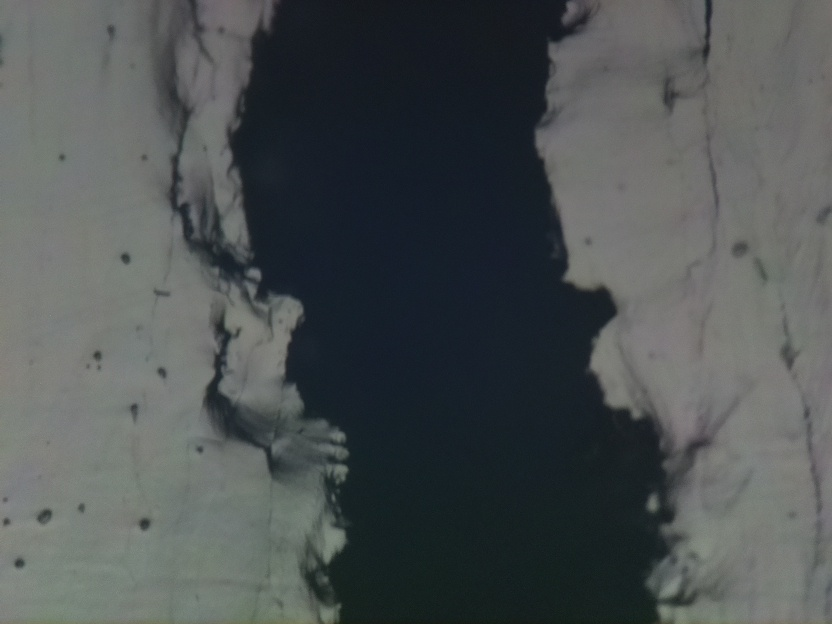crack: (224, 0, 669, 624)
